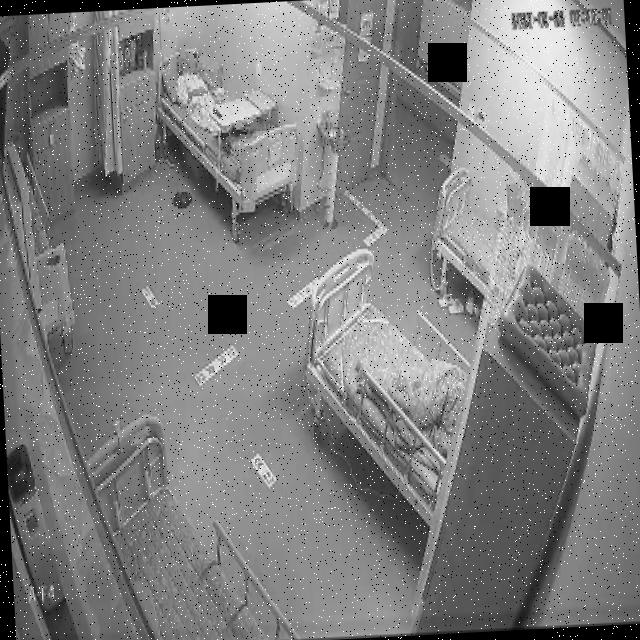bed: (83, 405, 299, 640), (301, 246, 468, 526), (156, 46, 300, 216), (428, 168, 501, 300)
lie: (171, 49, 228, 136)
patient: (172, 49, 228, 135)
